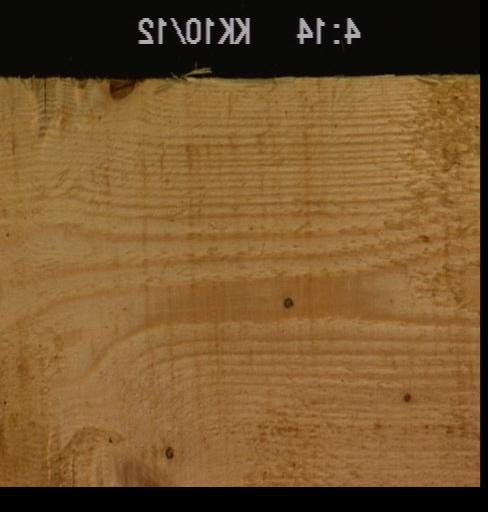dry_knot: (398, 385, 413, 406), (280, 292, 296, 311), (163, 441, 177, 461)
